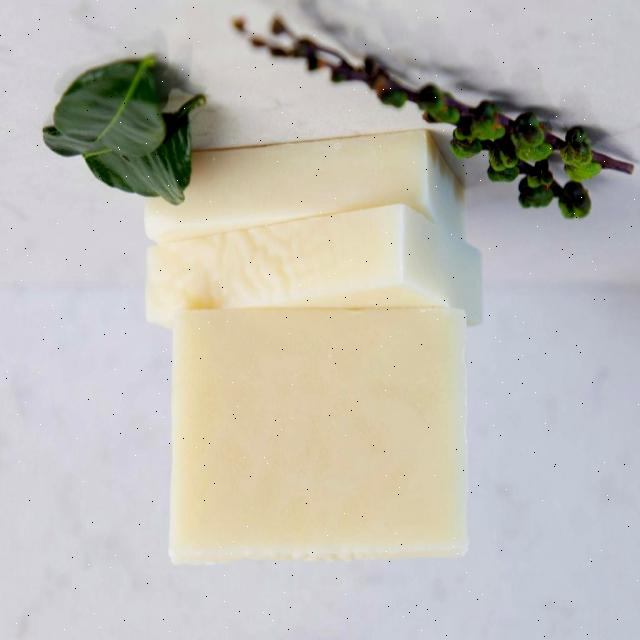soap: (160, 296, 506, 584), (95, 120, 482, 250), (127, 202, 498, 329)
